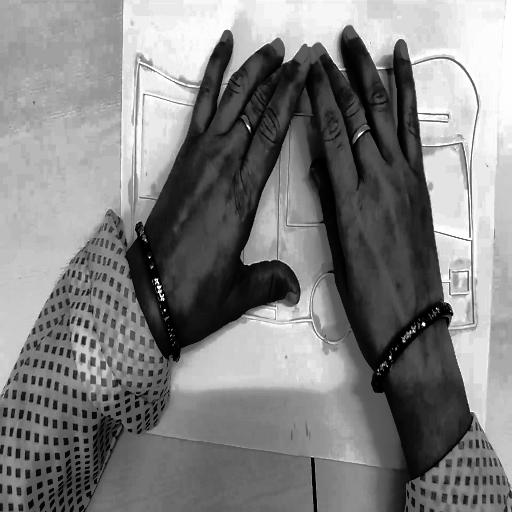bottom_left: (116, 419, 122, 436)
bottom_right: (479, 463, 487, 476)
bus: (121, 32, 493, 369)
